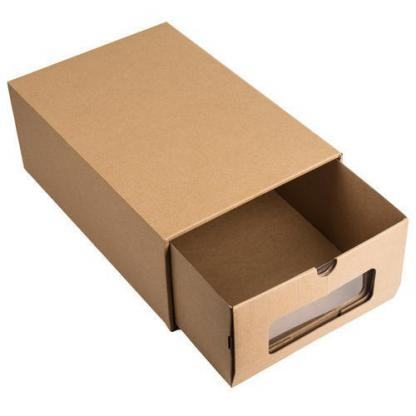box: (6, 19, 410, 388)
